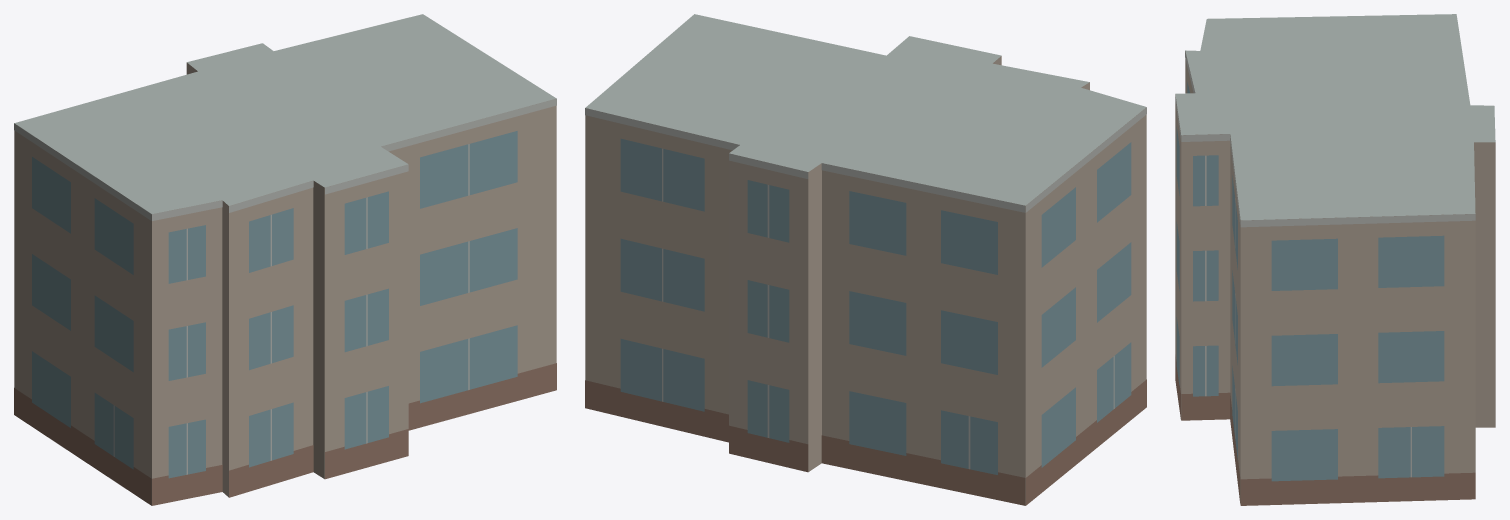
Rendered from survey-upis-32727685.glb.
3 renders of one model, left to right at view 1: azimuth 30°, elevation 25°; view 2: azimuth 150°, elevation 25°; view 3: azimuth 270°, elevation 25°, orthographic. The views are drawn at different scales.
Visible parts, largest first — view 1: survey-upis-32727685.tmp; view 2: survey-upis-32727685.tmp; view 3: survey-upis-32727685.tmp.
Boxes of the visible parts, box(x1,y1,x2,y2) form: survey-upis-32727685.tmp: box(14, 14, 556, 505); survey-upis-32727685.tmp: box(585, 14, 1146, 505); survey-upis-32727685.tmp: box(1175, 14, 1495, 505).
Bounding box in the file's own units: 15.67 × 10.1 × 10.28.
